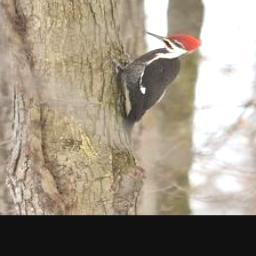Woodpecker: (104, 31, 202, 145)
